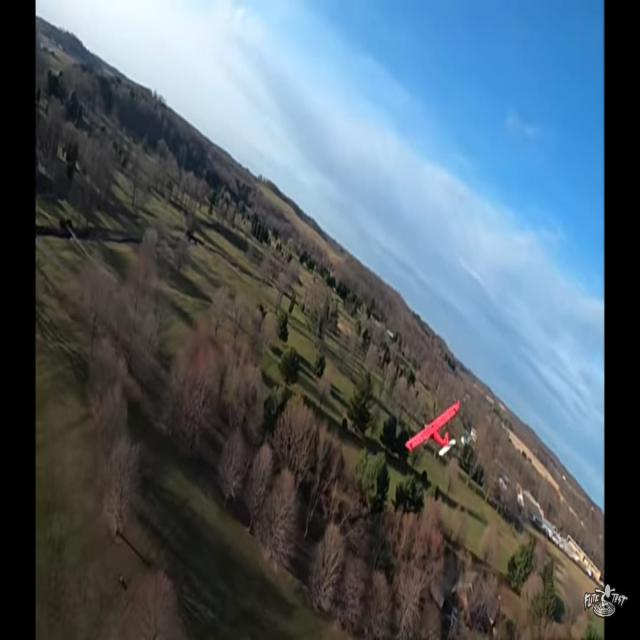iha: (406, 396, 462, 456)
